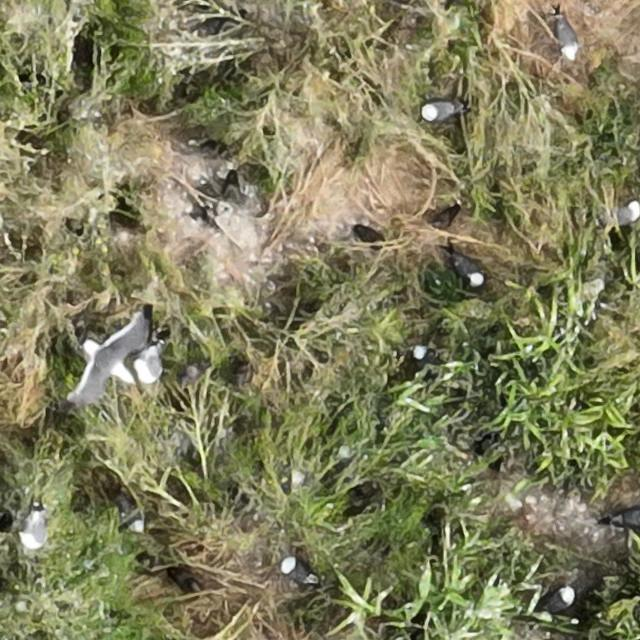F: (76, 326, 140, 398)
umineko: (19, 507, 45, 550), (454, 256, 484, 285), (138, 347, 163, 381), (541, 587, 574, 612), (556, 16, 577, 55), (410, 342, 440, 369), (284, 560, 312, 584), (424, 101, 461, 119), (614, 200, 640, 223), (612, 507, 640, 526)
